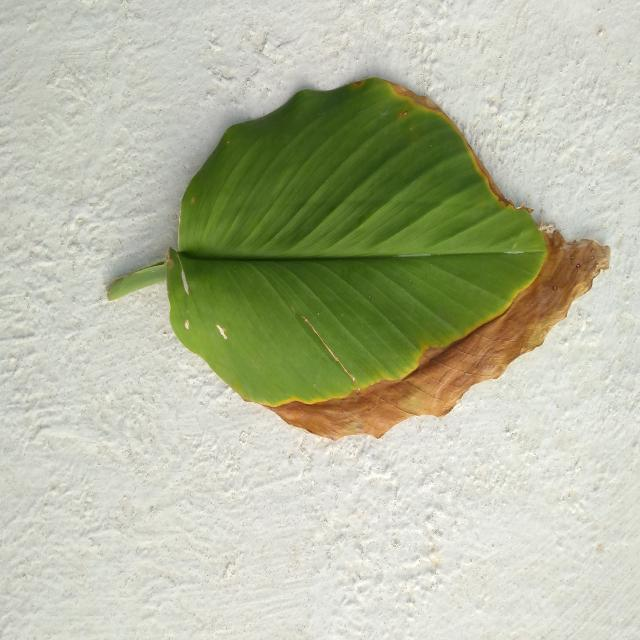leaf blotch: (108, 78, 609, 438)
